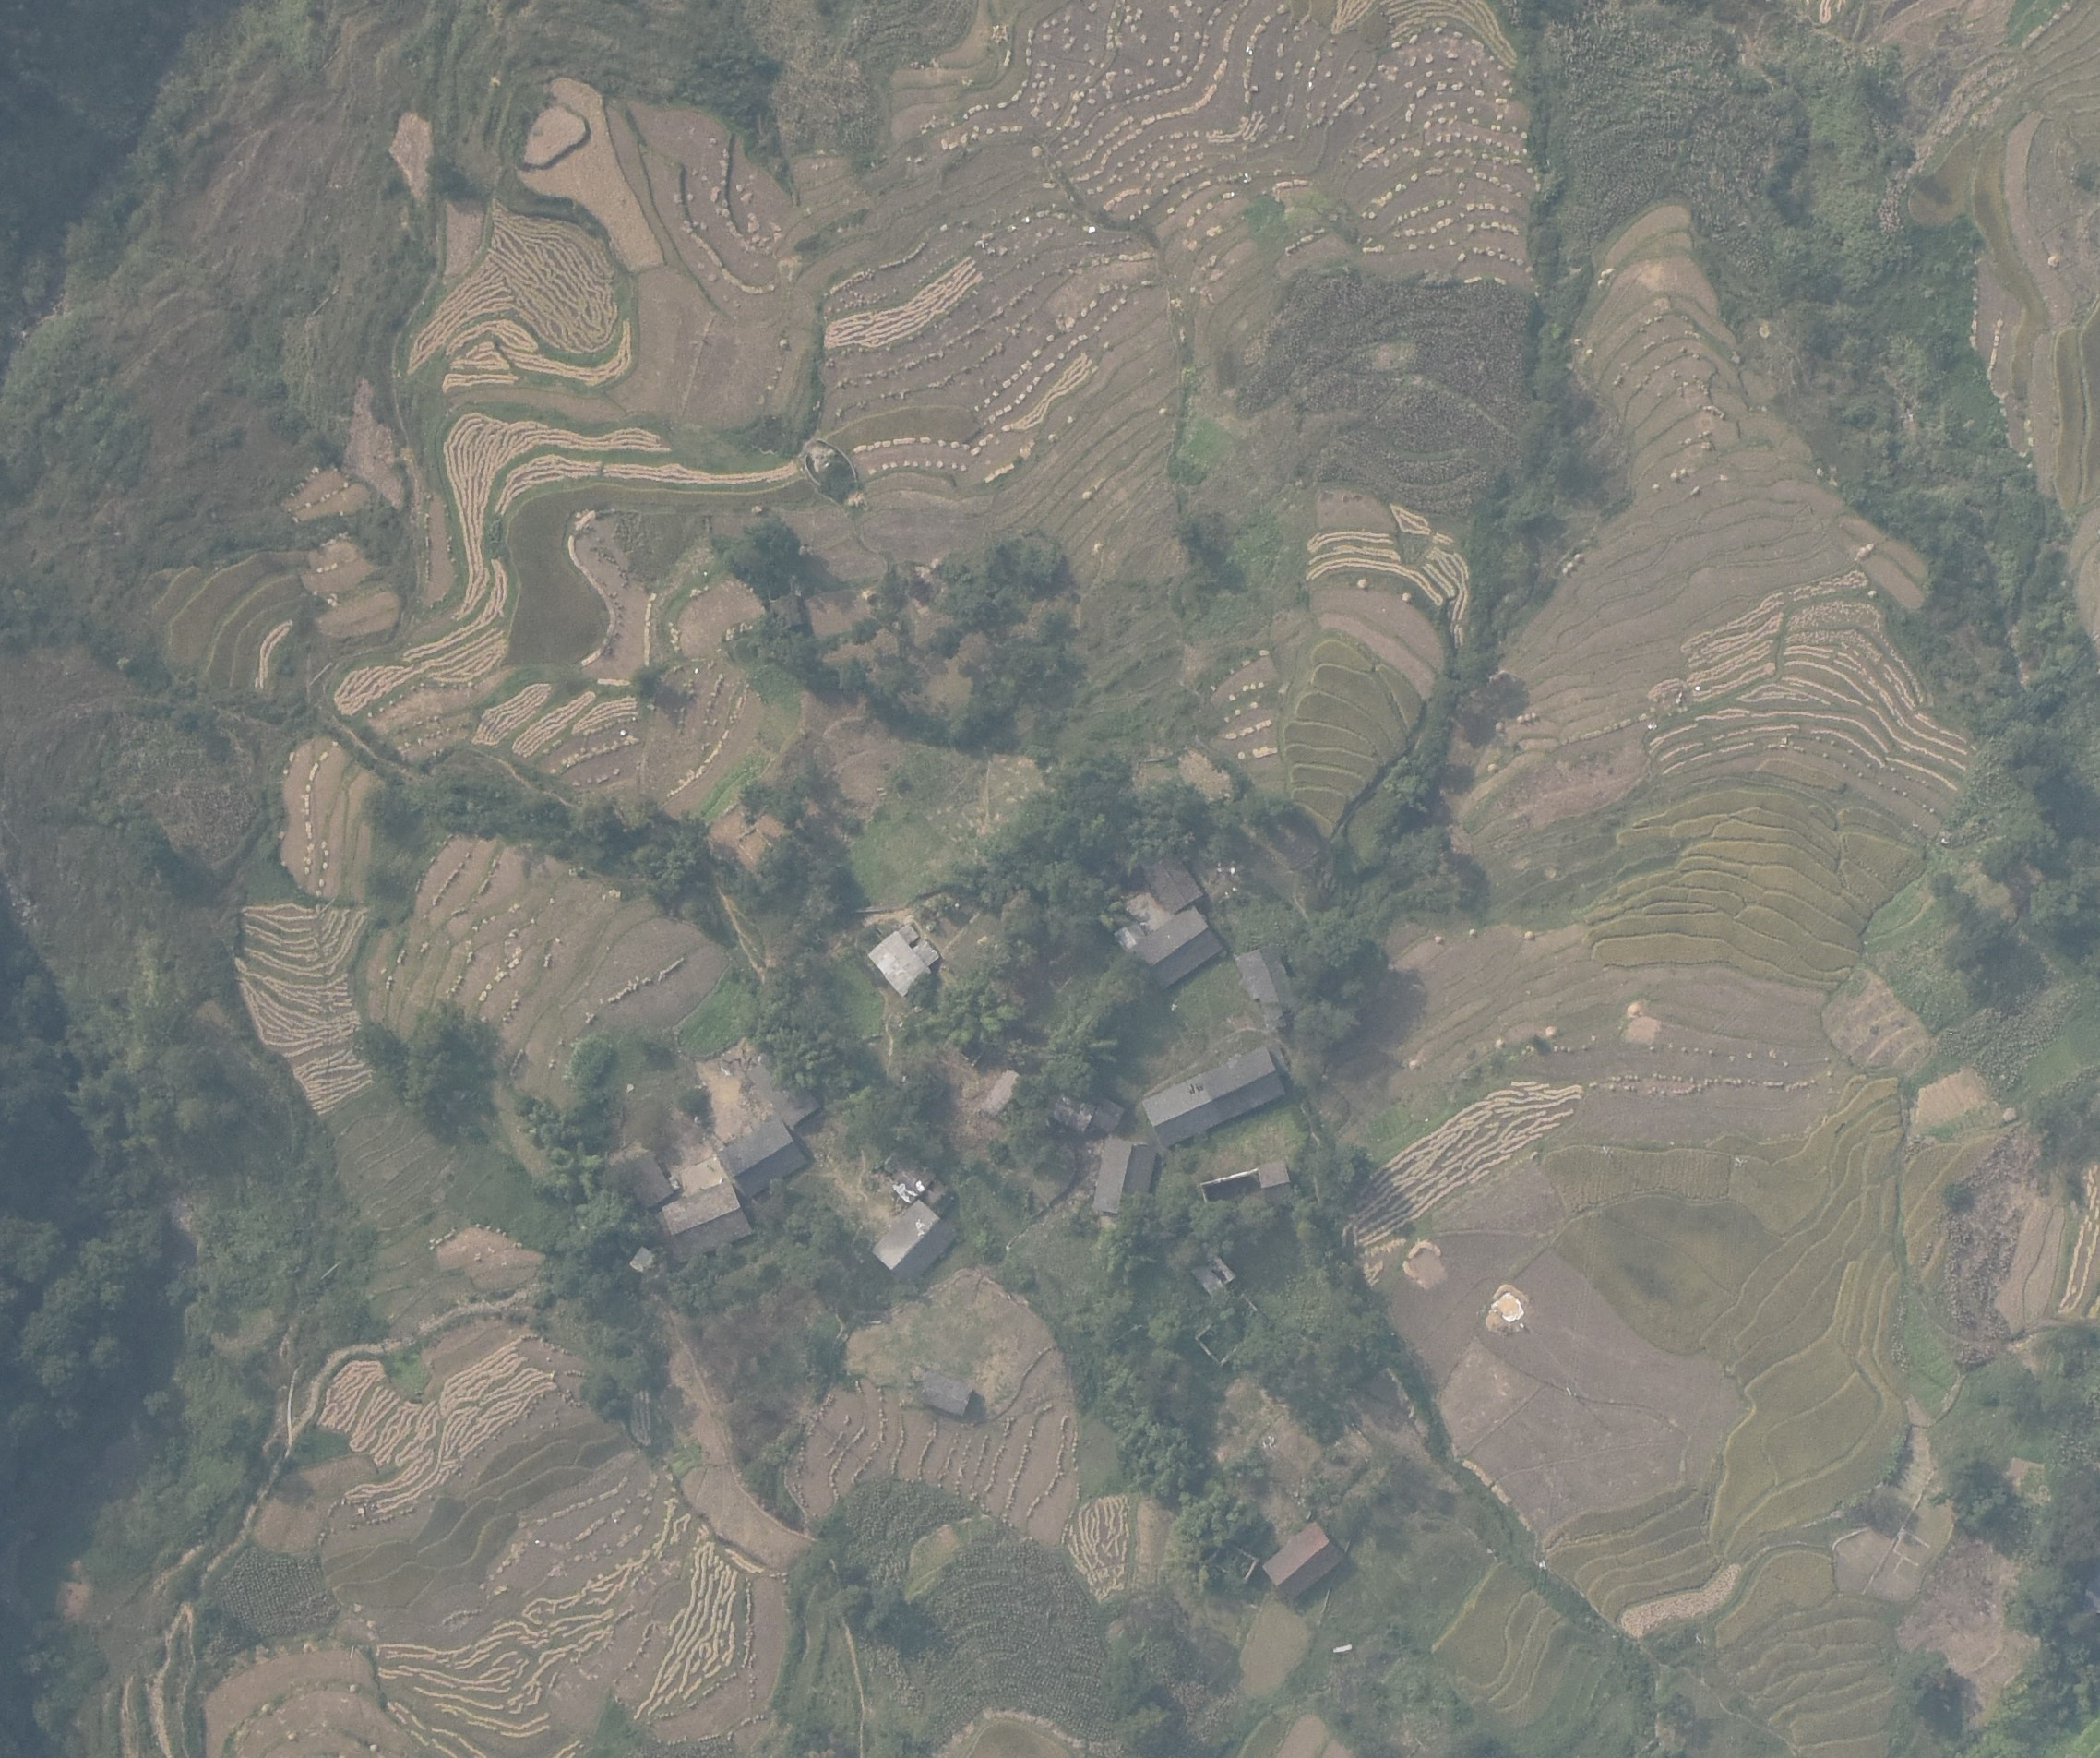building: (1140, 1046, 1286, 1148), (873, 1200, 961, 1288), (662, 1178, 751, 1263), (718, 1116, 807, 1199), (1138, 906, 1222, 989), (1262, 1521, 1346, 1598), (1234, 943, 1299, 1032), (744, 1053, 822, 1125), (867, 925, 939, 999), (1092, 1140, 1155, 1220), (1146, 855, 1202, 914), (622, 1153, 672, 1210), (918, 1372, 974, 1416), (982, 1070, 1023, 1117), (1049, 1094, 1095, 1134), (894, 1165, 939, 1203), (1092, 1100, 1127, 1130), (1256, 1159, 1290, 1189), (1114, 921, 1147, 949)
cable-tower: (1694, 1633, 1708, 1647), (1561, 1386, 1574, 1398), (1735, 1157, 1748, 1167), (1601, 1146, 1612, 1157), (1537, 1560, 1547, 1572), (1910, 821, 1919, 830)
